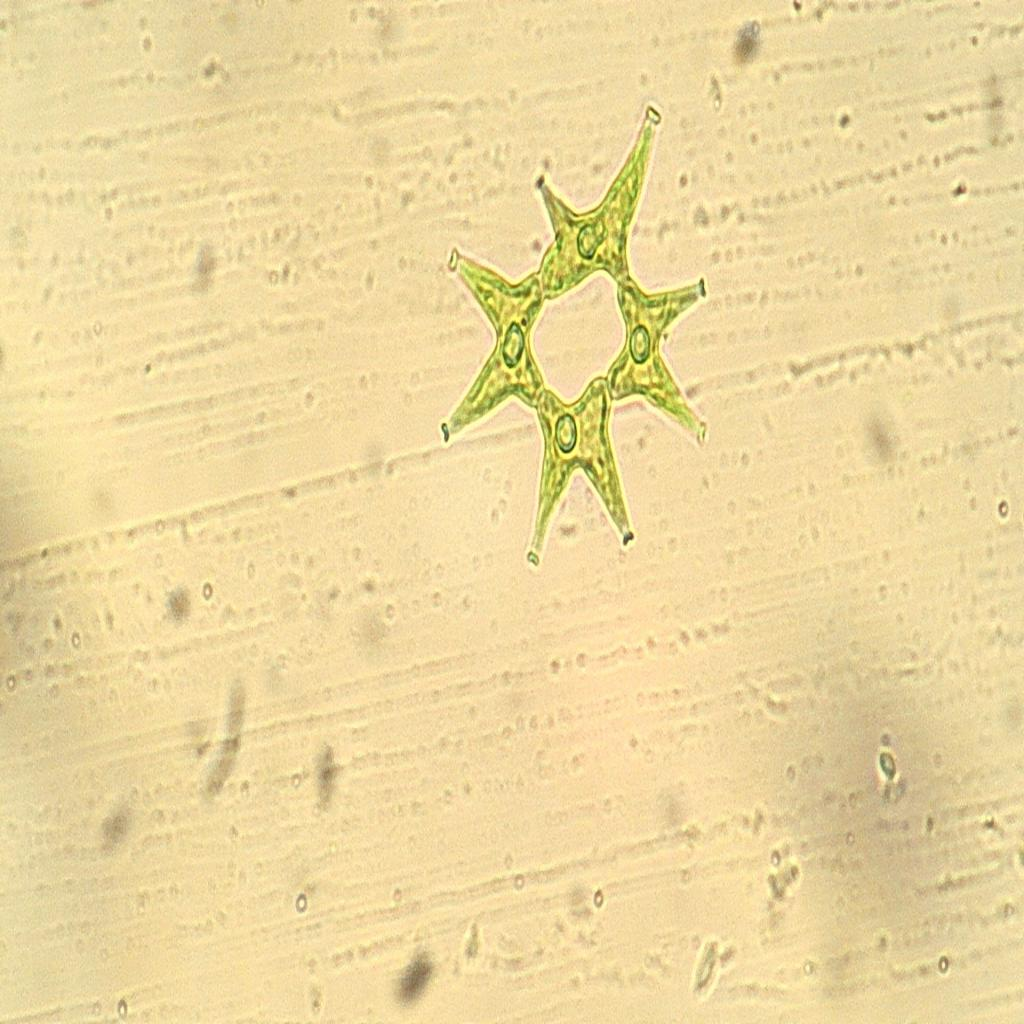Pediastrum_CO: (434, 92, 741, 574)
